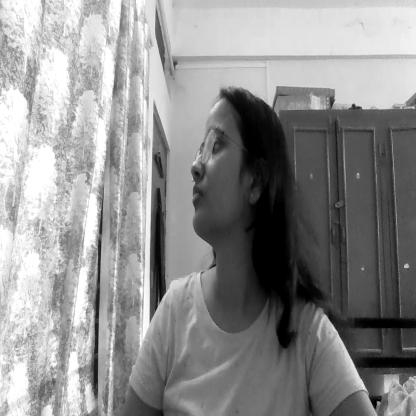Distracted: (189, 108, 262, 254)
